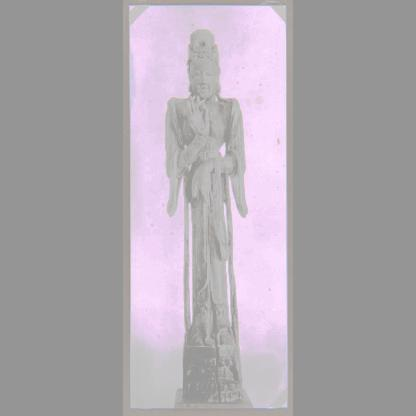buddha-standing: (166, 30, 247, 403)
